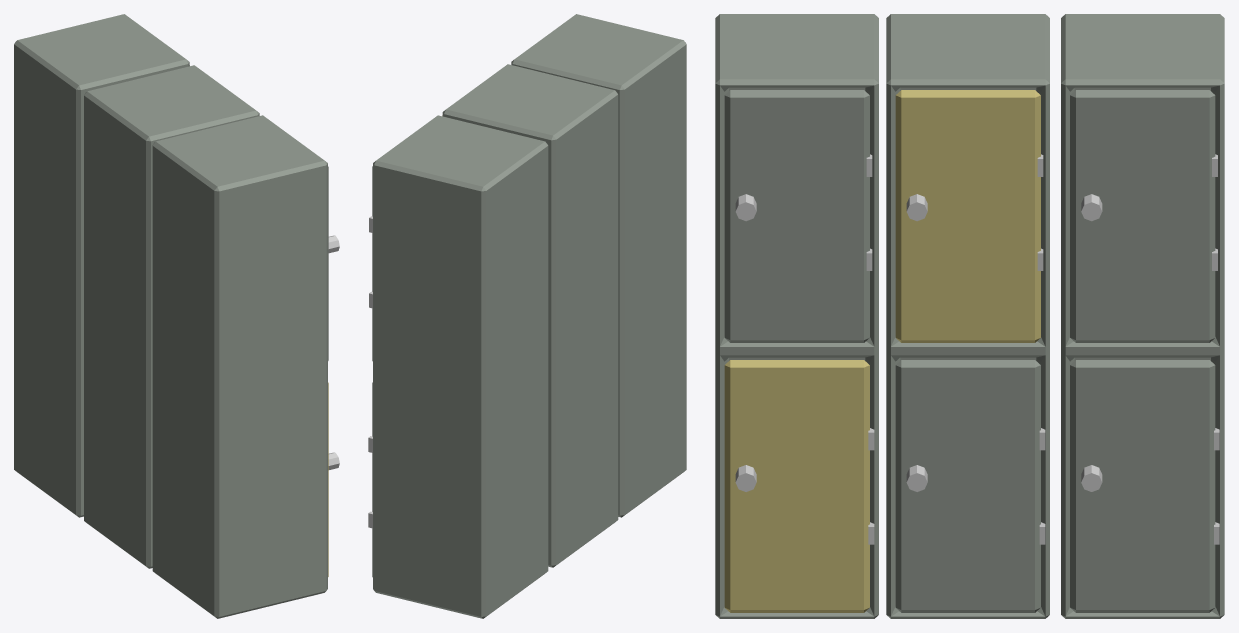
The model's file is Closets.fbx.
3 renders of one model, left to right at view 1: azimuth 30°, elevation 25°; view 2: azimuth 150°, elevation 25°; view 3: azimuth 270°, elevation 25°, orthographic. The views are drawn at different scales.
Visible parts, largest first — view 1: Skab.002, Skab.001, Skab; view 2: Skab.001, Skab, Skab.002; view 3: LaageGraa, LaageGraa.002, LaageGraa.001, LaggeBrun.002, LaggeBrun, LaggeBrun.001, Skab.002, Skab, Skab.001.
Part boxes in pixels (<box>): Skab.002: <box>152,115,327,618</box>; Skab.001: <box>14,14,189,517</box>; Skab: <box>84,65,259,568</box>; Skab.001: <box>373,115,548,618</box>; Skab: <box>442,64,618,567</box>; Skab.002: <box>511,14,686,517</box>; LaageGraa: <box>895,360,1040,612</box>; LaageGraa.002: <box>724,360,869,612</box>; LaageGraa.001: <box>1070,360,1215,612</box>; LaggeBrun.002: <box>724,90,869,342</box>; LaggeBrun: <box>895,90,1040,342</box>; LaggeBrun.001: <box>1070,90,1215,342</box>; Skab.002: <box>715,14,878,618</box>; Skab: <box>886,14,1049,618</box>; Skab.001: <box>1061,14,1224,618</box>.
Bounding box in the file's own units: 232 × 727 × 622.
